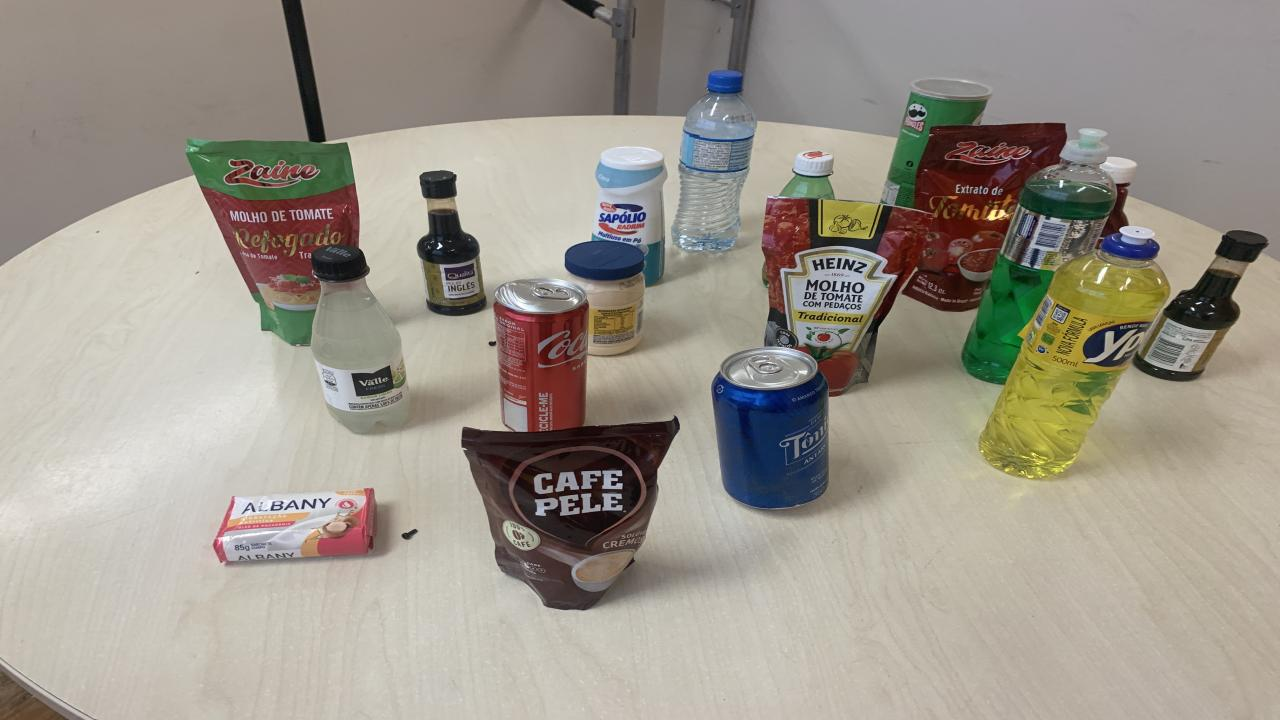Cleaner-Cleanup_Items: (592, 146, 668, 285)
Coffee-Pantry_Items: (462, 418, 680, 609)
Coke-Drinks: (492, 278, 590, 431)
Detergent-Cleanup_Items: (980, 227, 1170, 478), (962, 129, 1118, 382)
English_Sauce-Pantry_Items: (1135, 231, 1268, 381), (418, 171, 485, 315)
Guarana-Drinks: (780, 150, 835, 199), (792, 152, 832, 176)
Ketchup-Pantry_Items: (1100, 156, 1138, 236)
Mayonnaise-Pantry_Items: (565, 240, 645, 356)
Pringles-Snacks: (882, 77, 992, 206)
Soap-Cleanup_Items: (212, 488, 378, 562)
Soda-Drinks: (310, 246, 410, 433)
Tomato_Sauce-Pantry_Items: (185, 139, 360, 345), (762, 197, 932, 396), (902, 124, 1068, 311)
Tonic-Drinks: (712, 347, 828, 508)
Water_Bottle-Drinks: (672, 69, 758, 251)
